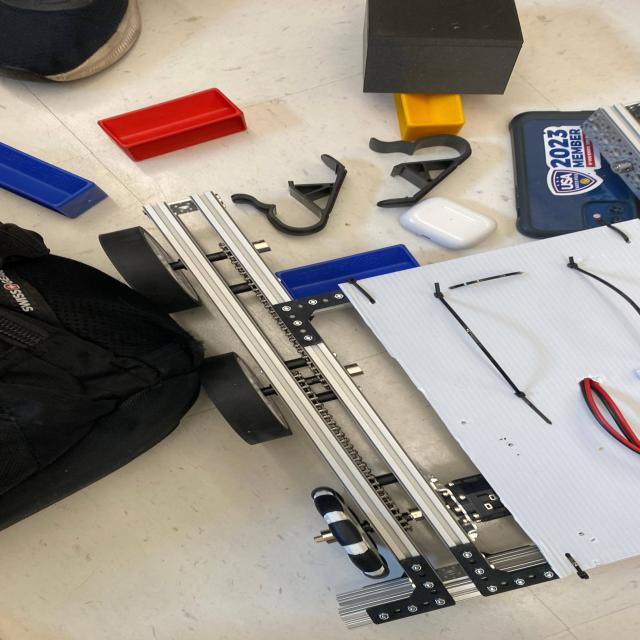blue-specimen: (0, 143, 108, 219), (276, 244, 420, 299)
red-specimen: (98, 88, 247, 161)
yellow-specimen: (394, 93, 465, 141)
